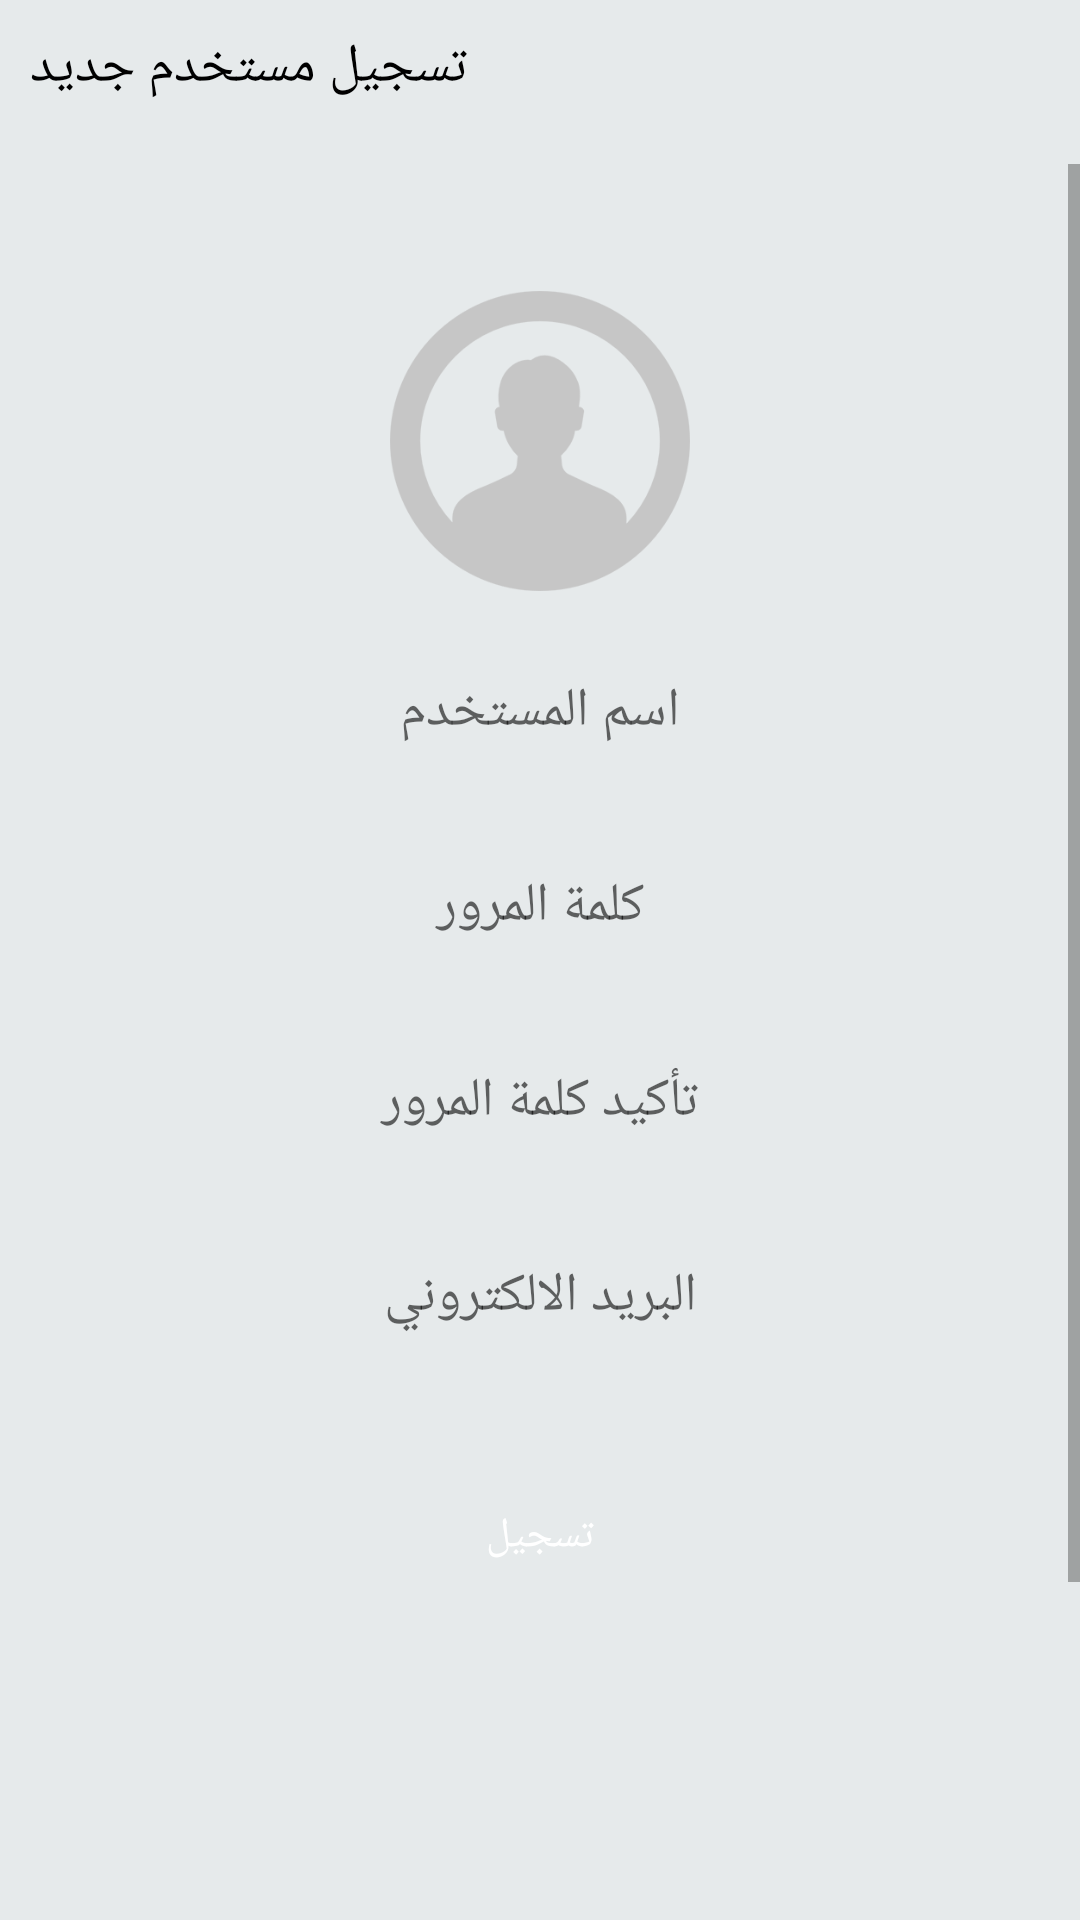

Icon bounding boxes for this 1080w x 1920h phone screenshot, format [left=x1, top=y1, right=x2, bottom=y2]:
personal: [left=390, top=291, right=690, bottom=591]
